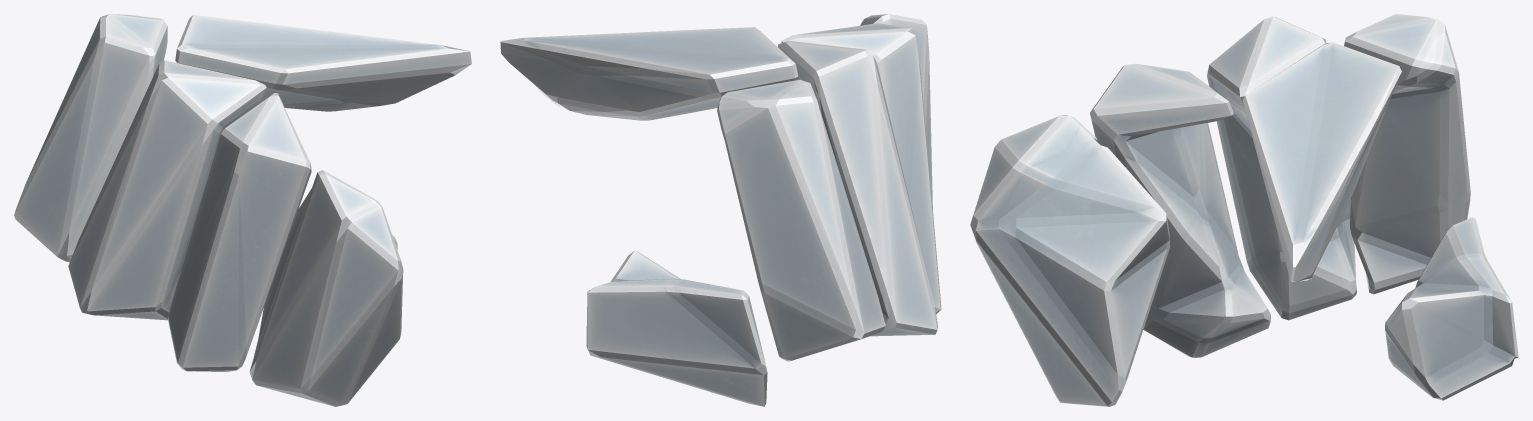
Rendered from summon-fire-fist.glb.
The picture shows the model from 3 angles, left to right: view 1: azimuth 30°, elevation 25°; view 2: azimuth 150°, elevation 25°; view 3: azimuth 270°, elevation 25°; orthographic projection. The views are drawn at different scales.
Visible parts, largest first — view 1: Fist_Rock.016_Fist_Rock_0; view 2: Fist_Rock.016_Fist_Rock_0; view 3: Fist_Rock.016_Fist_Rock_0.
Part boxes in pixels (x1=…): Fist_Rock.016_Fist_Rock_0: x1=14, y1=14, x2=471, y2=406; Fist_Rock.016_Fist_Rock_0: x1=500, y1=14, x2=941, y2=406; Fist_Rock.016_Fist_Rock_0: x1=970, y1=14, x2=1518, y2=406.
Bounding box in the file's own units: 0.5263 × 0.3773 × 0.55.
Materials: 1 (1 with a texture image).
